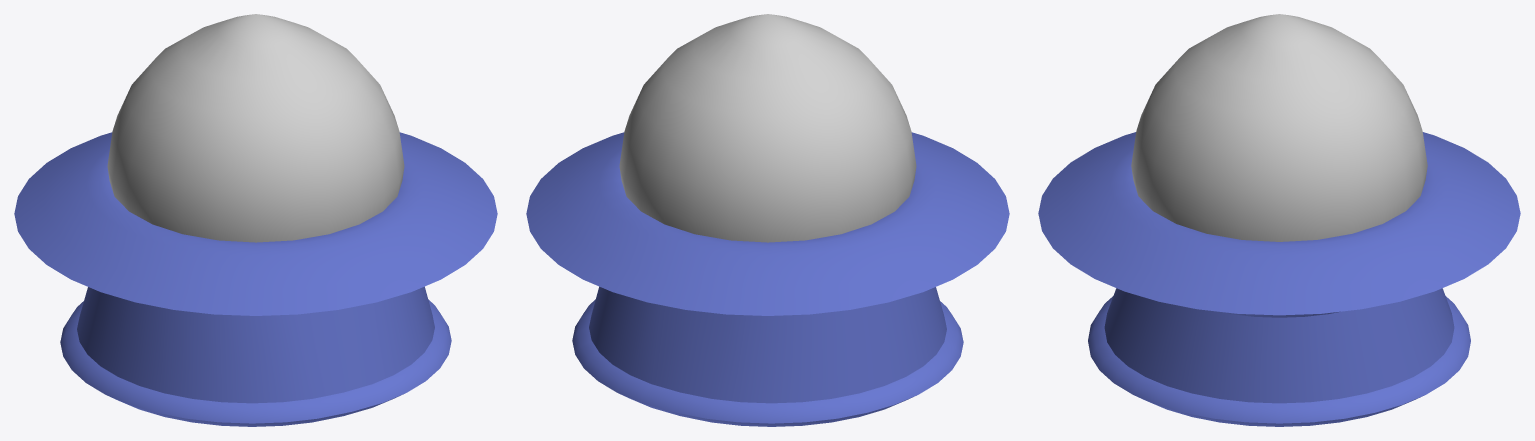
File: UFO.fbx
The picture shows the model from 3 angles, left to right: view 1: azimuth 30°, elevation 25°; view 2: azimuth 150°, elevation 25°; view 3: azimuth 270°, elevation 25°; orthographic projection.
Visible parts, largest first — view 1: トーラス, 球体; view 2: トーラス, 球体; view 3: トーラス, 球体.
Part boxes in pixels (x1,y1,x2,y2): トーラス: (14,132,497,426); 球体: (107,14,404,242); トーラス: (526,132,1009,426); 球体: (619,14,916,242); トーラス: (1038,132,1520,426); 球体: (1131,14,1427,241).
Bounding box in the file's own units: 649 × 529 × 649.
